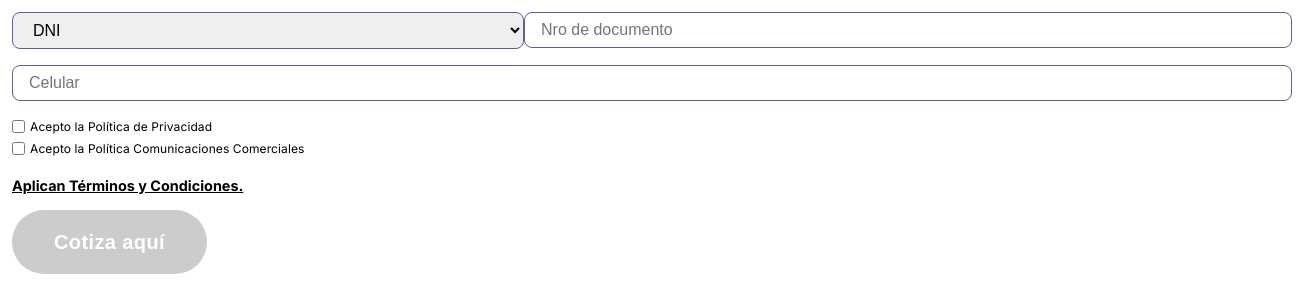
Scenario: HomeForm › El boton se habilita al completar los campos
The image size is (1304, 291).
Step 1. Type "75281949" into the field with placeholder "Nro de documento" → (908, 30), box [524, 12, 1292, 48]
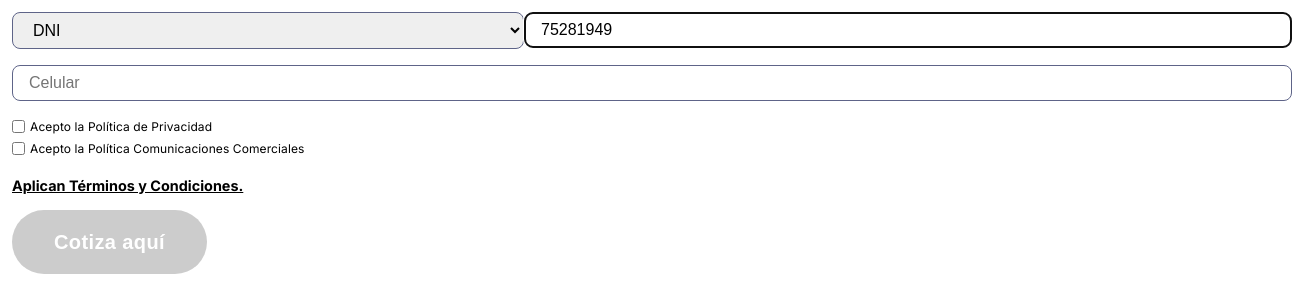
Step 2. Type "963214587" into the field with placeholder "Celular" → (652, 83), box [12, 65, 1292, 101]
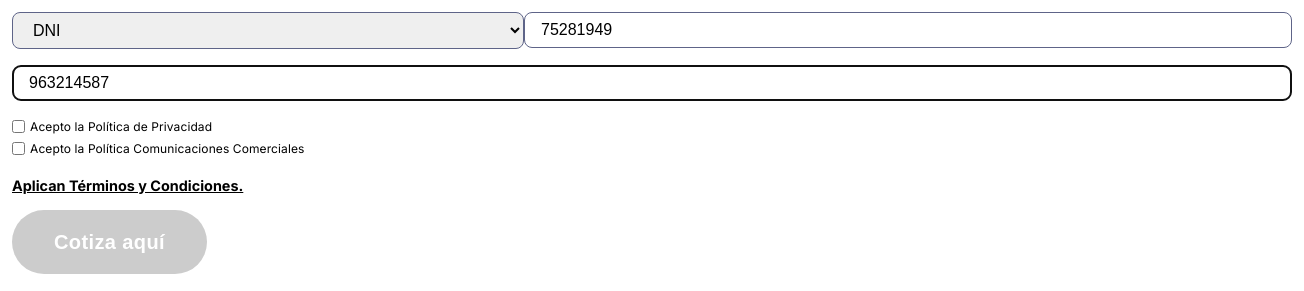
Step 3. Click the checkbox labelled "Acepto la Política de Privacidad" → (18, 126), box [12, 120, 25, 133]
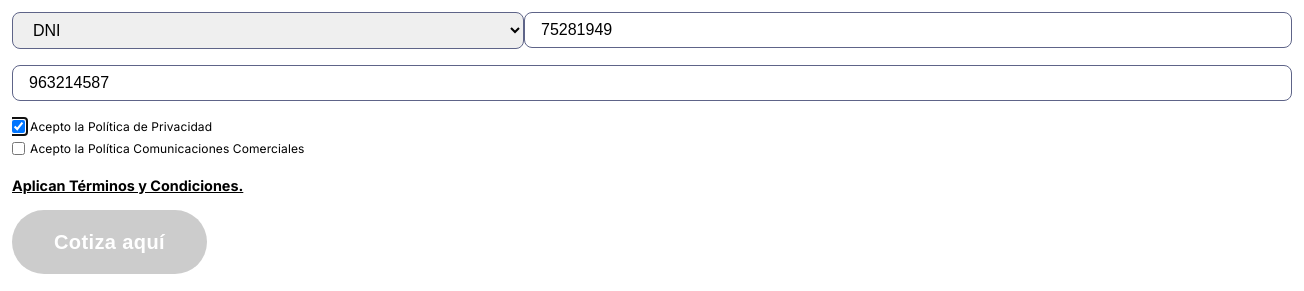
Step 4. Click the checkbox labelled "Acepto la Política Comunicaciones Comerciales" → (18, 148), box [12, 142, 25, 155]
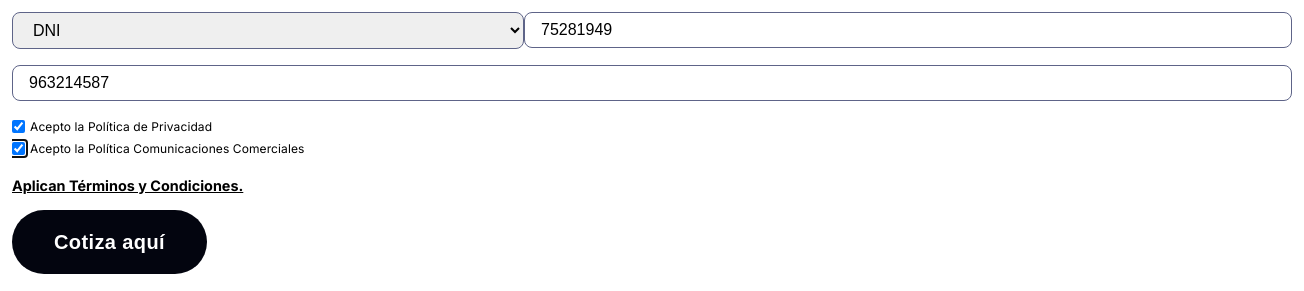
Check: the button "Cotiza aquí" is enabled, box [12, 210, 207, 274]
